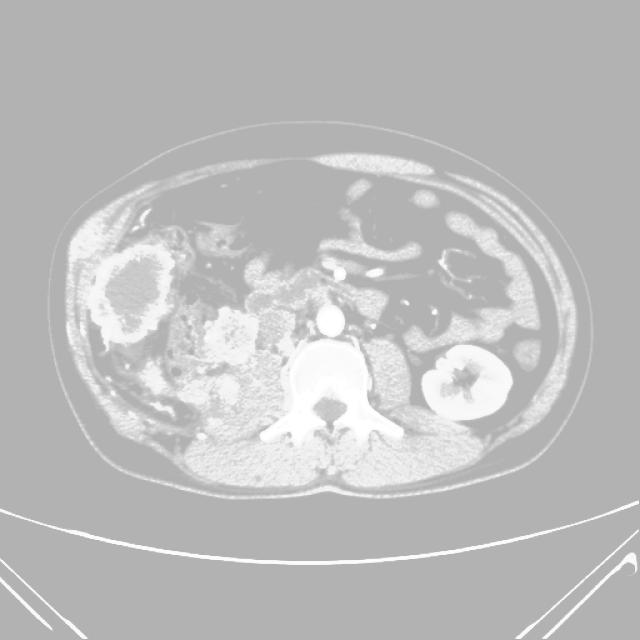TUMOR: (131, 184, 512, 395)
